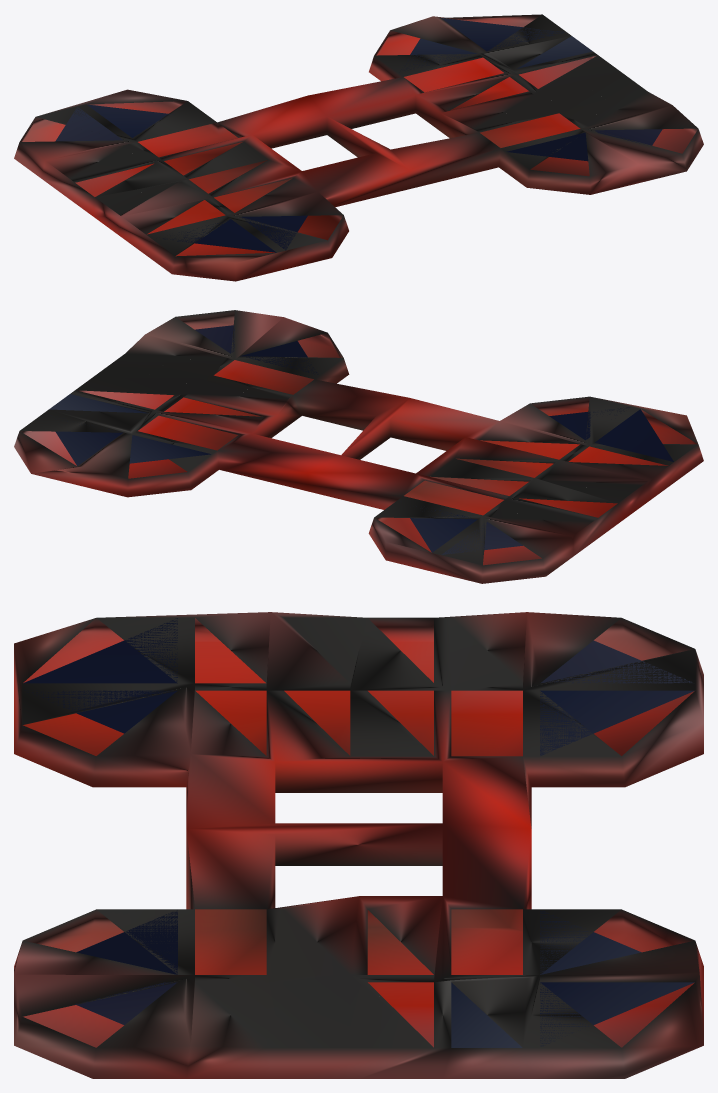
The model's file is solar_panel_lod3.glb.
3 views of the same model, one above another, from view 1: azimuth 30°, elevation 25°; view 2: azimuth 150°, elevation 25°; view 3: azimuth 270°, elevation 25° (orthographic). The views are drawn at different scales.
Parts seen in each view (by area): view 1: solar_panel; view 2: solar_panel; view 3: solar_panel.
Part boxes in pixels (x1=…): solar_panel: x1=14, y1=14, x2=703, y2=281; solar_panel: x1=14, y1=310, x2=703, y2=583; solar_panel: x1=14, y1=612, x2=703, y2=1078.
Size of the model in its own units: 6 by 0.225 by 4.
